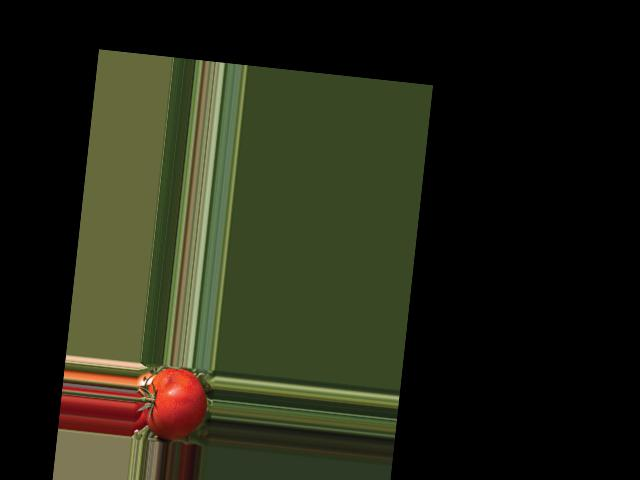tomato: (141, 365, 210, 442)
